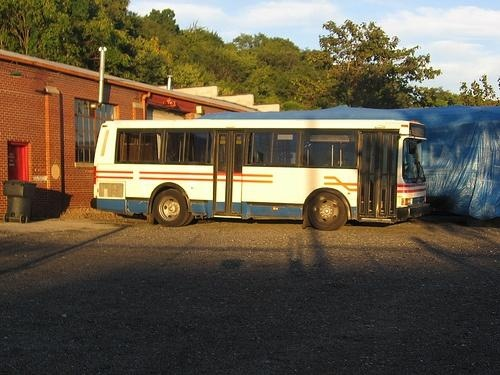bus: (89, 119, 427, 236)
